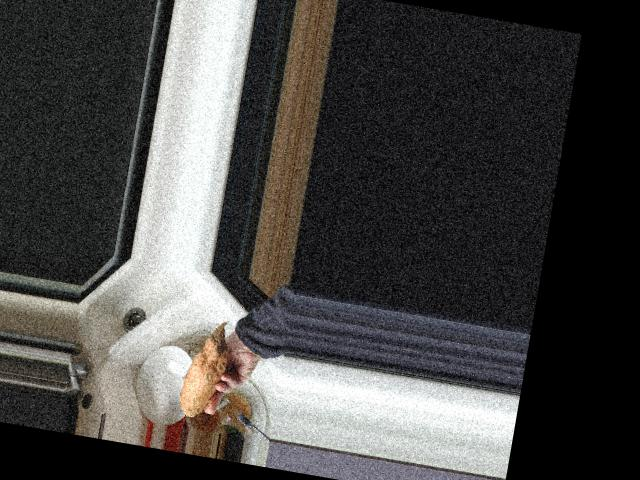sweet_potato: (174, 315, 234, 420)
